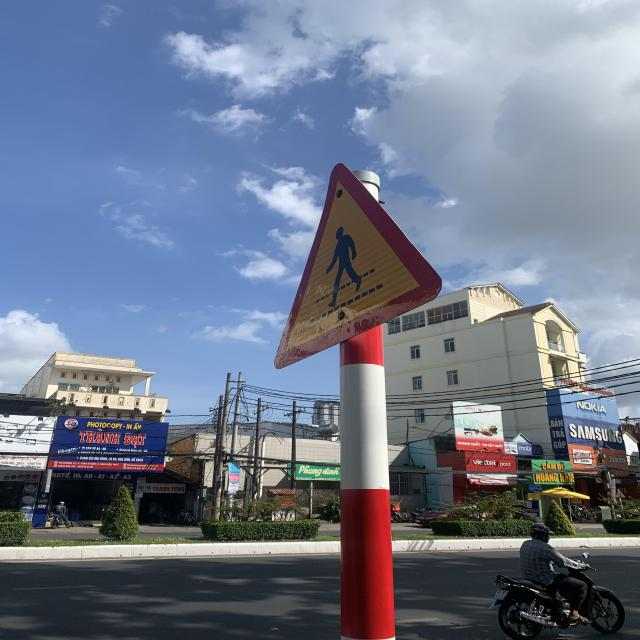Duong_Nguoi_Di_Bo_Sang_Ngang: (274, 163, 445, 370)
